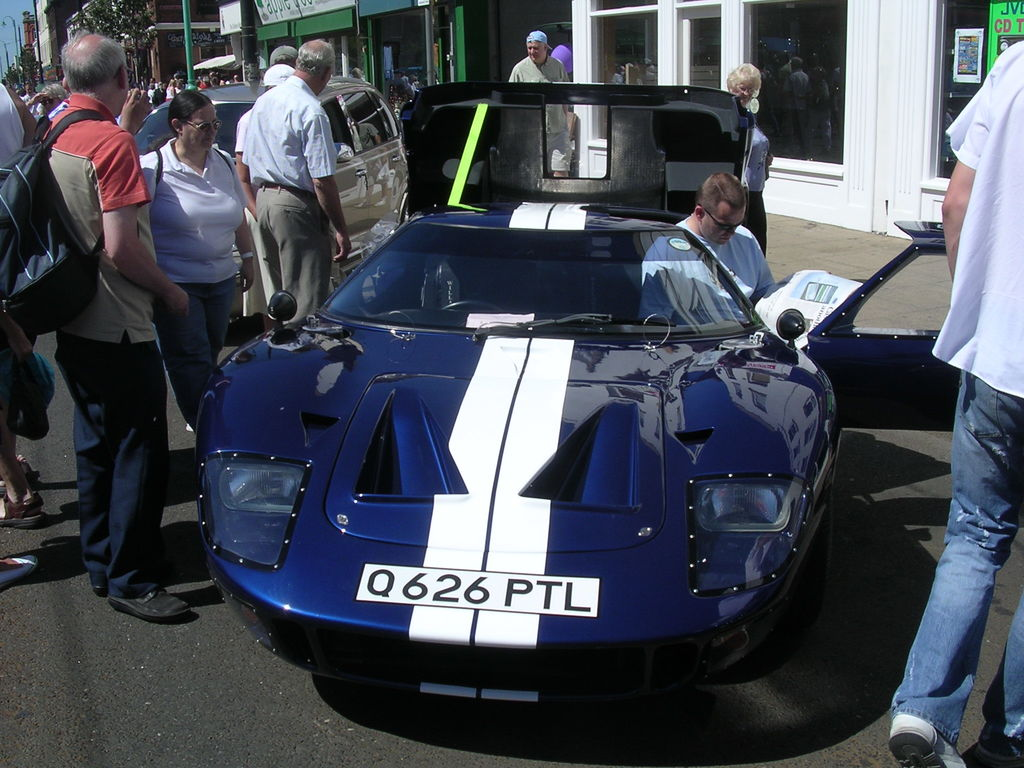Car: (194, 81, 962, 704), (129, 79, 410, 300)
